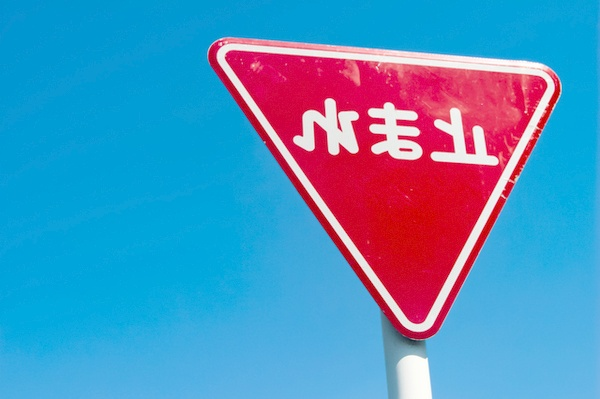Regulatory_sign_triangle: (198, 19, 572, 341)
